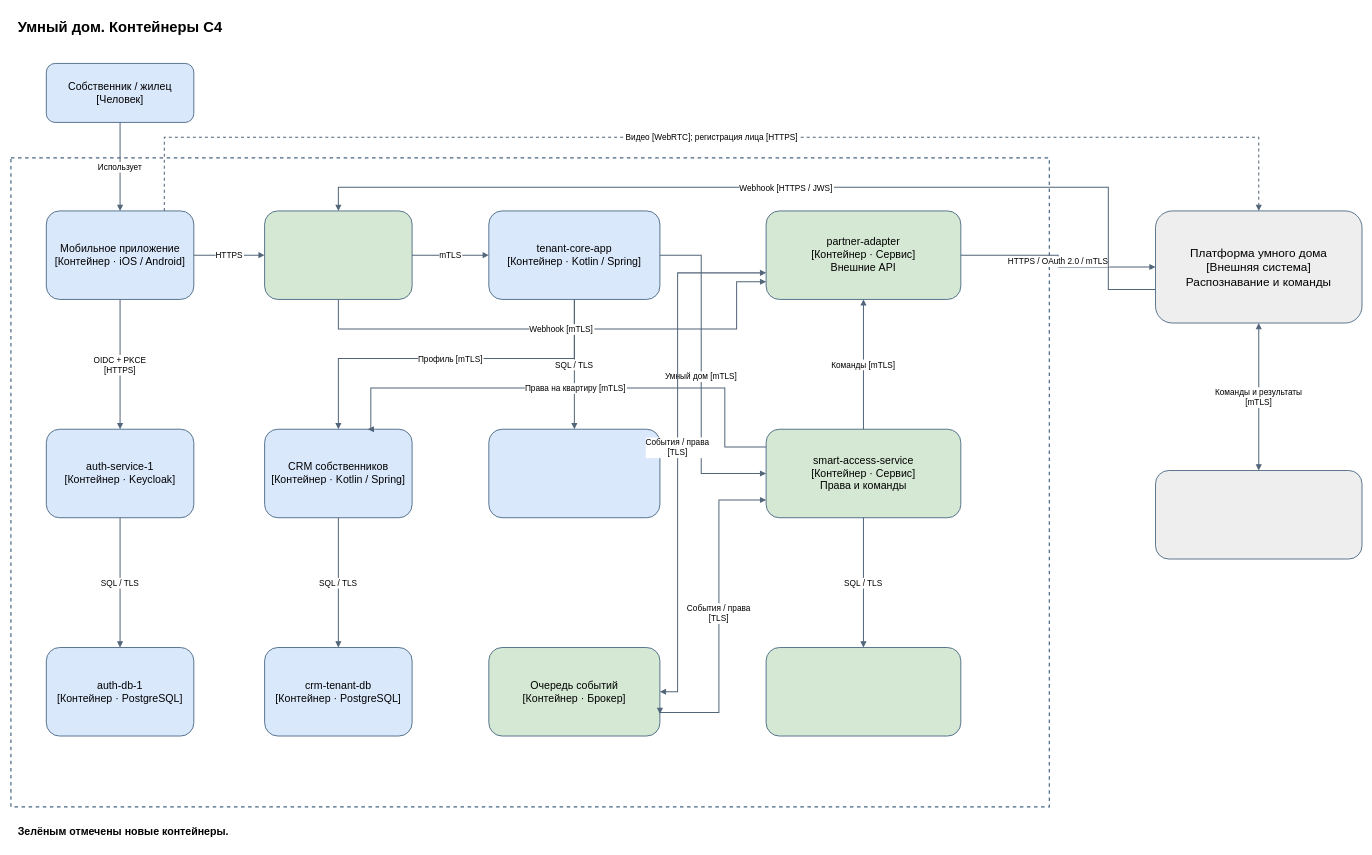
Some shapes in this 1372 by 855 pixel diagram are drawn without their labels. Each missing label, with the box of its shape:
API Gateway [Контейнер · HTTPS proxy] Вход в сервисы ЖКУ: (264, 210, 412, 300)
PropDevelopment: ЖКУ и авторизация: (10, 157, 1050, 807)
smart-access-db [Контейнер · PostgreSQL]: (765, 647, 961, 736)
tenant-core-db [Контейнер · PostgreSQL]: (488, 429, 660, 518)
Домофон и шлагбаум [Устройства партнёра]: (1155, 470, 1362, 559)
